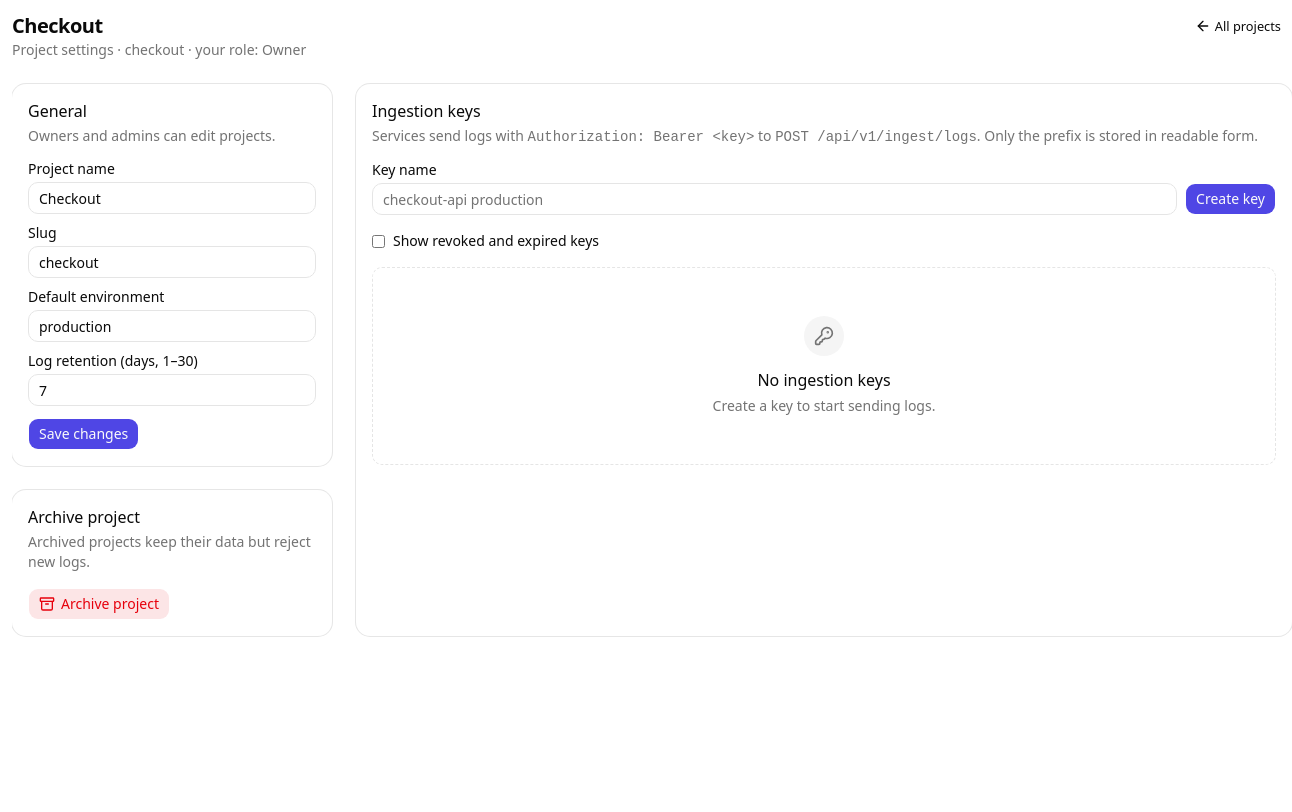
it: ProjectSettings › maps server field errors onto the form
Click the button "Save changes" at (84, 434), box [28,418,139,450]
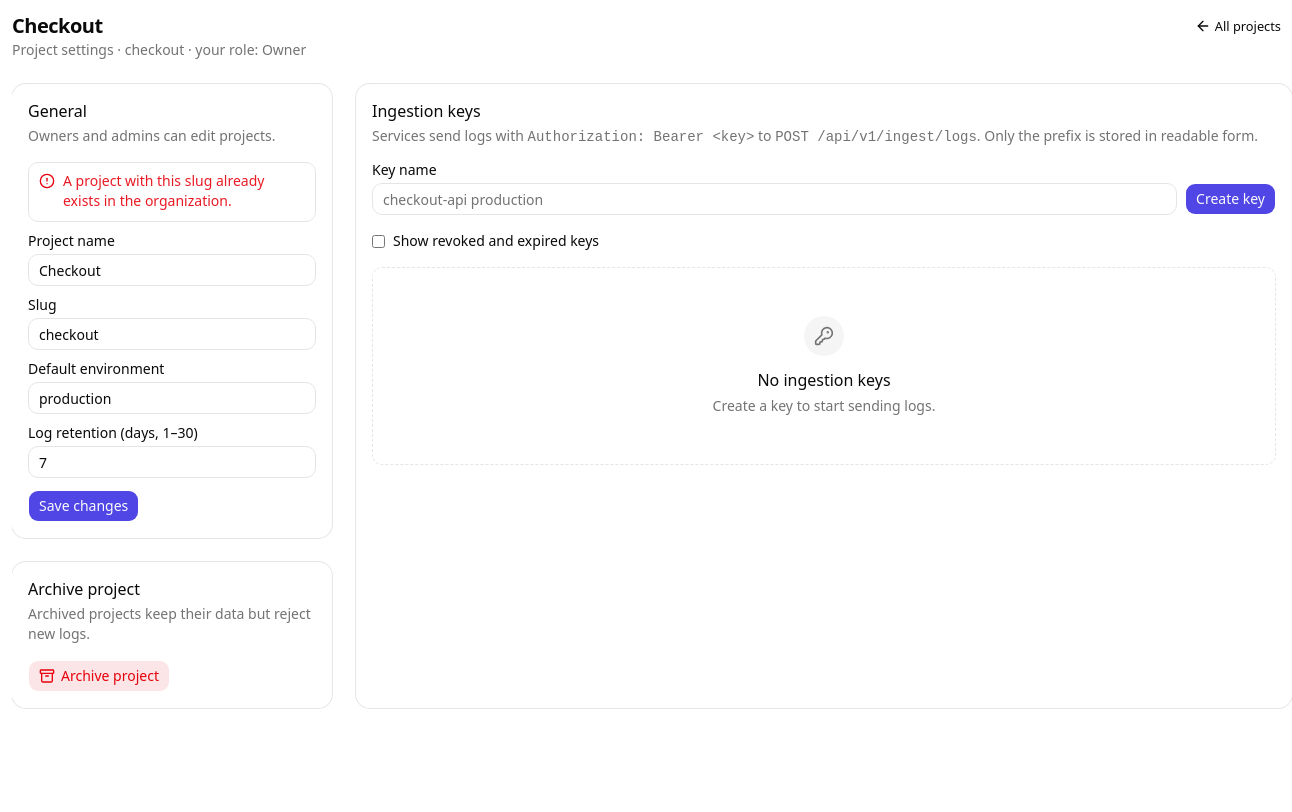
Expected: the text "A project with this slug already exists in the organization." is shown, [63,171,264,210]
